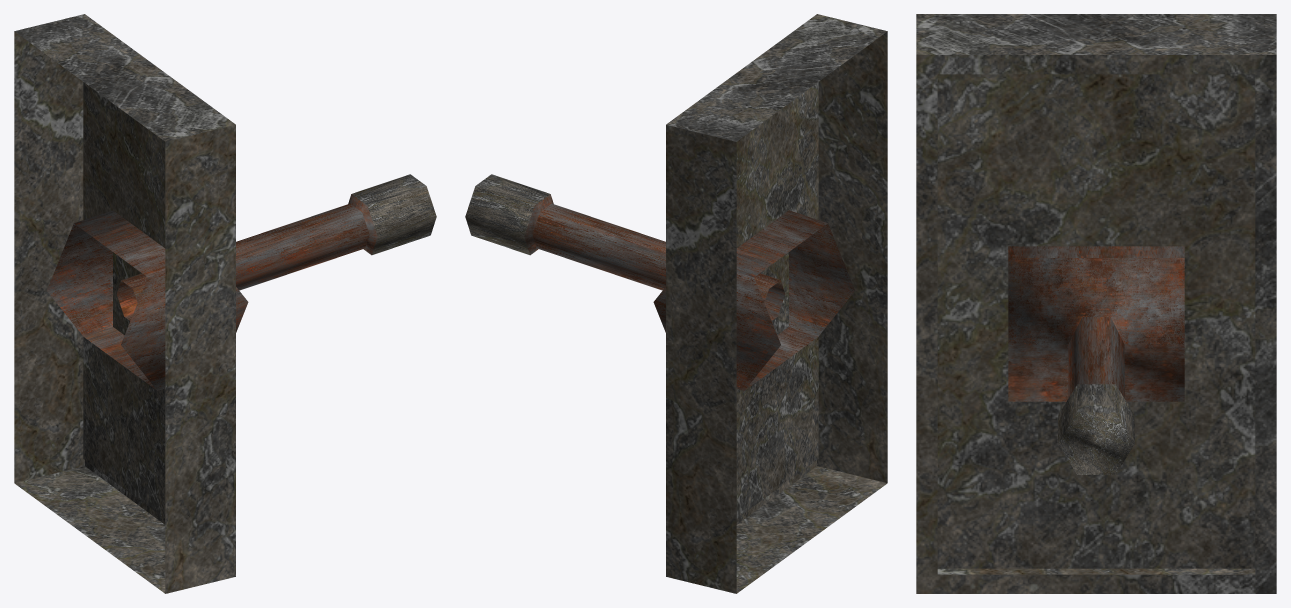
Rendered from lever_anim10.obj.
3 views of the same model, side by side, from view 1: azimuth 30°, elevation 25°; view 2: azimuth 150°, elevation 25°; view 3: azimuth 270°, elevation 25° (orthographic). The views are drawn at different scales.
Visible parts, largest first — view 1: Cube, Cylinder; view 2: Cube, Cylinder; view 3: Cube, Cylinder.
Boxes of the visible parts, box(x1,y1,x2,y2) form: Cube: box(14, 14, 235, 593); Cylinder: box(47, 174, 436, 390); Cube: box(666, 14, 887, 593); Cylinder: box(465, 174, 854, 390); Cube: box(916, 14, 1276, 593); Cylinder: box(1008, 246, 1184, 474).
Bounding box in the file's own units: 1.57 × 2 × 1.21.
Materials: 2 (2 with a texture image).
